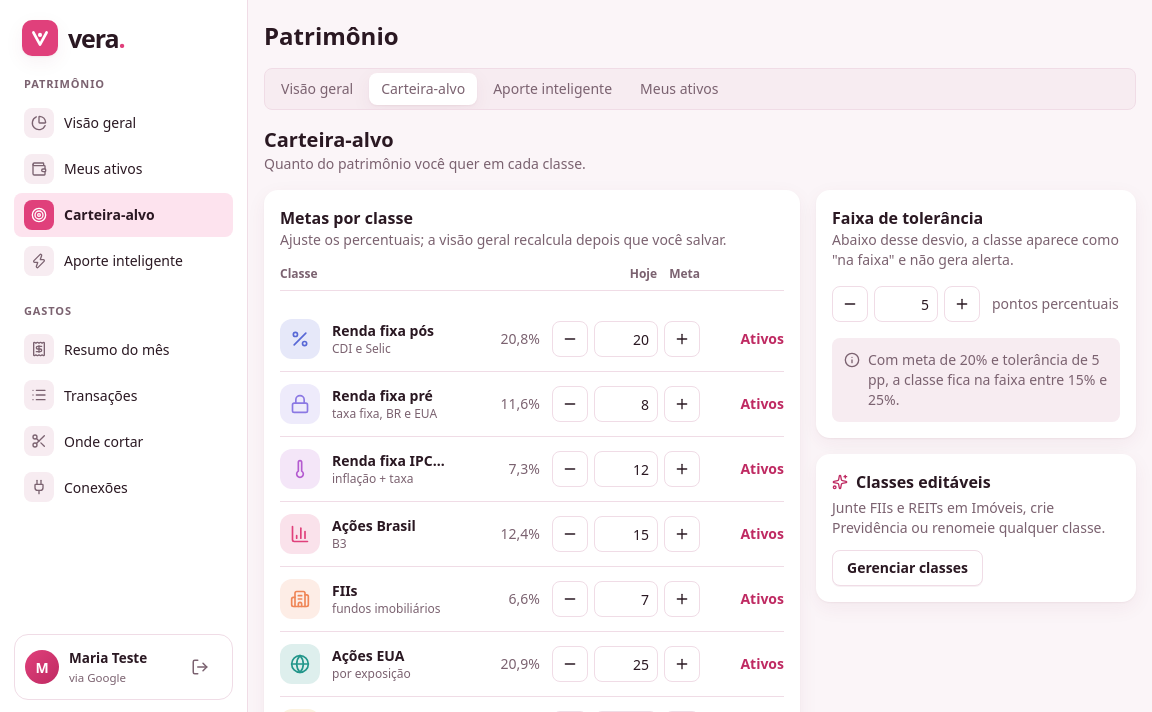
Test: carteira-alvo: faixa de tolerância › grava 800 ao digitar 8 e sair do campo, e o exemplo acompanha
Expected: the text "entre 15% e 25%" is shown, [868,350,1107,409]
Clear the field named "Tolerância em pontos percentuais" at point(906, 304), box [874,286,938,322]
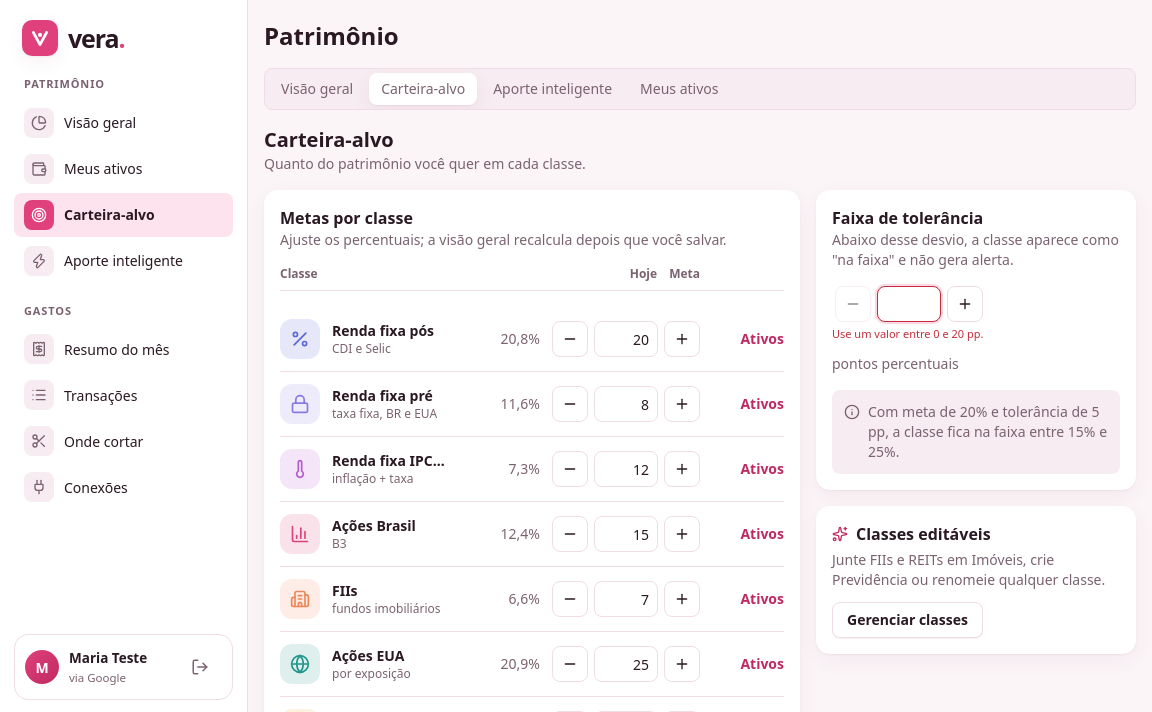
Type "8" into the field named "Tolerância em pontos percentuais" at point(910, 304), box [878,286,942,322]
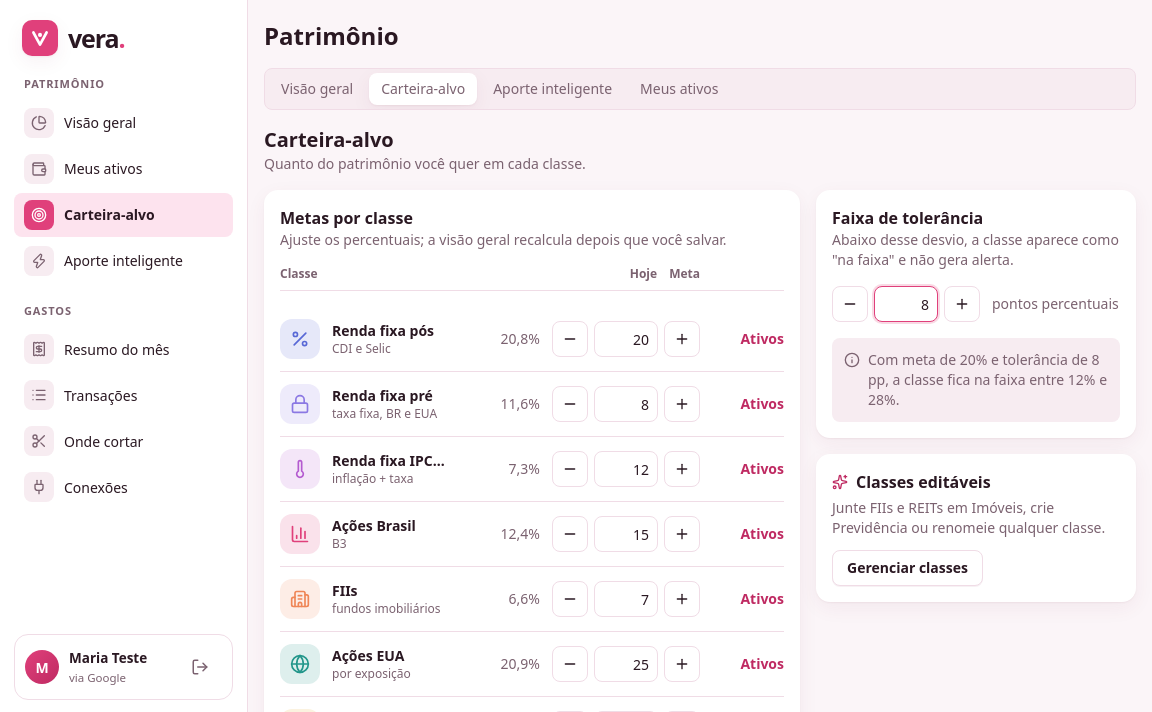
Now the text "entre 12% e 28%" is shown, box [868,350,1107,409]
Press Tab
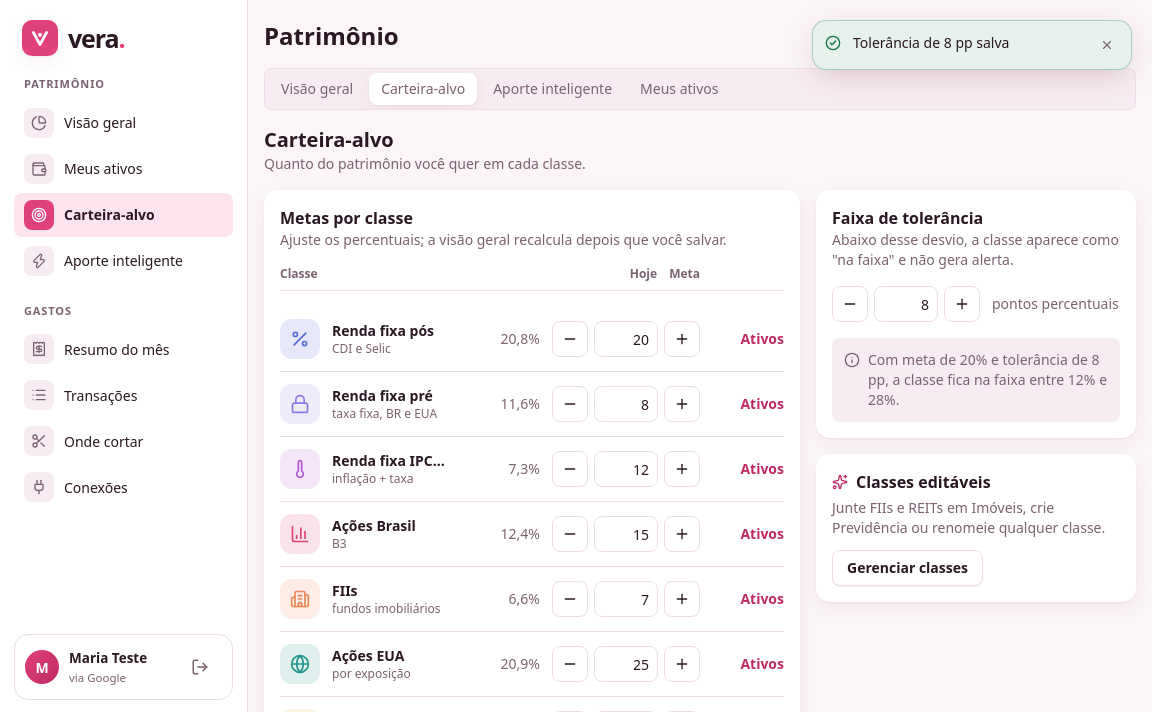
Now the text "Tolerância de 8 pp salva" is shown, box [853,33,1009,53]
